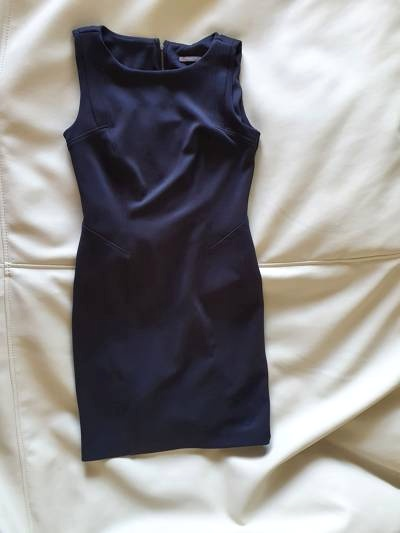Dress: (36, 13, 311, 455)
